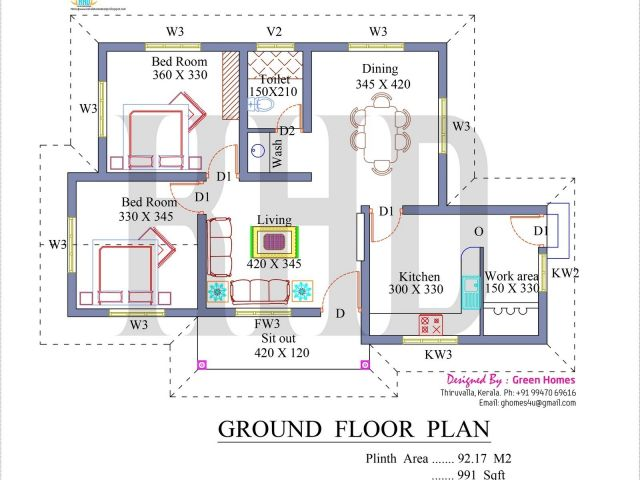door: (323, 267, 362, 305), (507, 213, 541, 249), (170, 180, 198, 212), (370, 215, 397, 244), (274, 99, 302, 124), (210, 142, 238, 167)
room: (358, 201, 551, 348), (300, 39, 450, 215), (196, 169, 372, 318), (96, 39, 250, 187), (95, 37, 249, 185), (65, 170, 211, 319), (236, 37, 315, 140)
